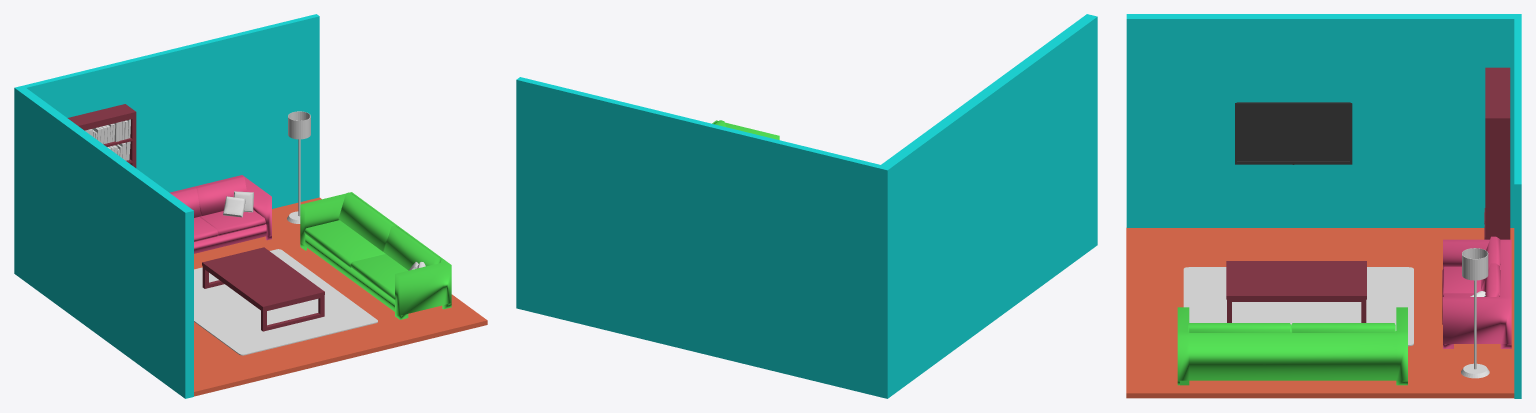
Rendered from sala.fbx.
The picture shows the model from 3 angles, left to right: view 1: azimuth 30°, elevation 25°; view 2: azimuth 150°, elevation 25°; view 3: azimuth 270°, elevation 25°; orthographic projection. The views are drawn at different scales.
Parts seen in each view (by area): view 1: parede1, parede2, chao, tapete, sofá.001, mesa, sofá, sofá.005, sofá.002, estante, sofá.003, sofá.004 (+8 smaller); view 2: parede2, parede1; view 3: parede1, chao, sofá.001, tapete, tv, mesa, sofá.005, estante, parede2, sofá.002, sofá.003, sofá.007 (+5 smaller).
Boxes of the visible parts, x1,y1,x2,y2 form: parede1: (17, 87, 193, 398); parede2: (14, 14, 319, 275); chao: (194, 197, 487, 396); tapete: (194, 249, 377, 355); sofá.001: (300, 192, 451, 319); mesa: (202, 247, 324, 309); sofá: (304, 220, 385, 267); sofá.005: (169, 175, 271, 253); sofá.002: (338, 192, 396, 251); estante: (67, 104, 136, 167); sofá.003: (384, 225, 441, 270); sofá.004: (350, 254, 408, 299); parede2: (516, 77, 891, 398); parede1: (881, 14, 1097, 395); parede1: (1126, 14, 1515, 227); chao: (1126, 228, 1514, 398); sofá.001: (1177, 307, 1407, 385); tapete: (1183, 267, 1413, 346); tv: (1235, 102, 1352, 164); mesa: (1226, 261, 1366, 299); sofá.005: (1443, 239, 1511, 348); estante: (1484, 67, 1510, 239); parede2: (1514, 14, 1521, 398); sofá.002: (1291, 323, 1395, 332); sofá.003: (1188, 323, 1291, 332); sofá.007: (1442, 266, 1500, 296).
Size of the model in its own units: 350 by 206 by 343.
